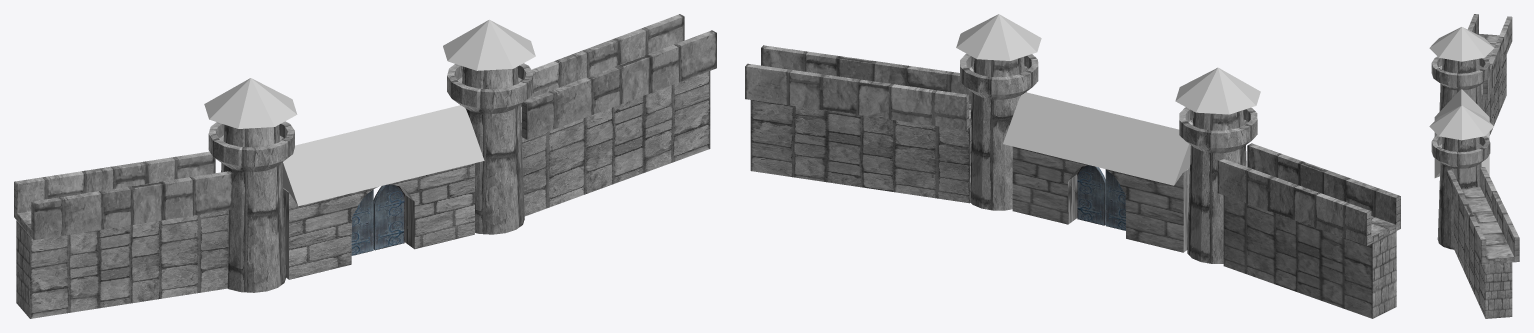
File: stonewall2.obj
3 renders of one model, left to right at view 1: azimuth 30°, elevation 25°; view 2: azimuth 150°, elevation 25°; view 3: azimuth 270°, elevation 25°, orthographic. The views are drawn at different scales.
Parts seen in each view (by area): view 1: Reino_mur1, Reino_mur5, Reino_mur2, Reino_mur4, Reino_tel0, Reino_mur0, Reino_muro, Reino_mur3, Reino_tel1, Reino_telh, Reino_por0, Reino_port; view 2: Reino_mur5, Reino_mur1, Reino_mur4, Reino_mur2, Reino_tel0, Reino_mur0, Reino_mur3, Reino_muro, Reino_telh, Reino_tel1, Reino_por0, Reino_port; view 3: Reino_mur4, Reino_mur3, Reino_mur5, Reino_muro, Reino_tel1, Reino_telh, Reino_mur2, Reino_mur1, Reino_tel0.
Part boxes in pixels (x1=…): Reino_mur1: x1=16, y1=210, x2=228, y2=318; Reino_mur5: x1=522, y1=71, x2=710, y2=216; Reino_mur2: x1=14, y1=151, x2=232, y2=239; Reino_mur4: x1=520, y1=14, x2=716, y2=139; Reino_tel0: x1=282, y1=105, x2=484, y2=206; Reino_mur0: x1=283, y1=163, x2=474, y2=279; Reino_muro: x1=208, y1=121, x2=294, y2=292; Reino_mur3: x1=447, y1=63, x2=533, y2=234; Reino_tel1: x1=443, y1=19, x2=535, y2=70; Reino_telh: x1=204, y1=78, x2=297, y2=128; Reino_por0: x1=373, y1=184, x2=404, y2=250; Reino_port: x1=351, y1=189, x2=373, y2=255; Reino_mur5: x1=750, y1=100, x2=971, y2=203; Reino_mur1: x1=1223, y1=195, x2=1396, y2=318; Reino_mur4: x1=745, y1=45, x2=971, y2=130; Reino_mur2: x1=1217, y1=143, x2=1400, y2=245; Reino_tel0: x1=1003, y1=92, x2=1190, y2=185; Reino_mur0: x1=1012, y1=146, x2=1189, y2=252; Reino_mur3: x1=960, y1=53, x2=1038, y2=210; Reino_muro: x1=1179, y1=107, x2=1257, y2=263; Reino_telh: x1=1175, y1=67, x2=1260, y2=114; Reino_tel1: x1=956, y1=14, x2=1041, y2=60; Reino_por0: x1=1077, y1=165, x2=1105, y2=225; Reino_port: x1=1105, y1=170, x2=1125, y2=230; Reino_mur4: x1=1446, y1=167, x2=1519, y2=264; Reino_mur3: x1=1431, y1=135, x2=1490, y2=249; Reino_mur5: x1=1454, y1=209, x2=1512, y2=318; Reino_muro: x1=1431, y1=56, x2=1490, y2=111; Reino_tel1: x1=1429, y1=105, x2=1493, y2=140; Reino_telh: x1=1429, y1=27, x2=1493, y2=61; Reino_mur2: x1=1467, y1=14, x2=1512, y2=100; Reino_mur1: x1=1482, y1=55, x2=1506, y2=135; Reino_tel0: x1=1434, y1=89, x2=1489, y2=177.
Bounding box in the file's own units: 41.49 × 11.6 × 6.98.
